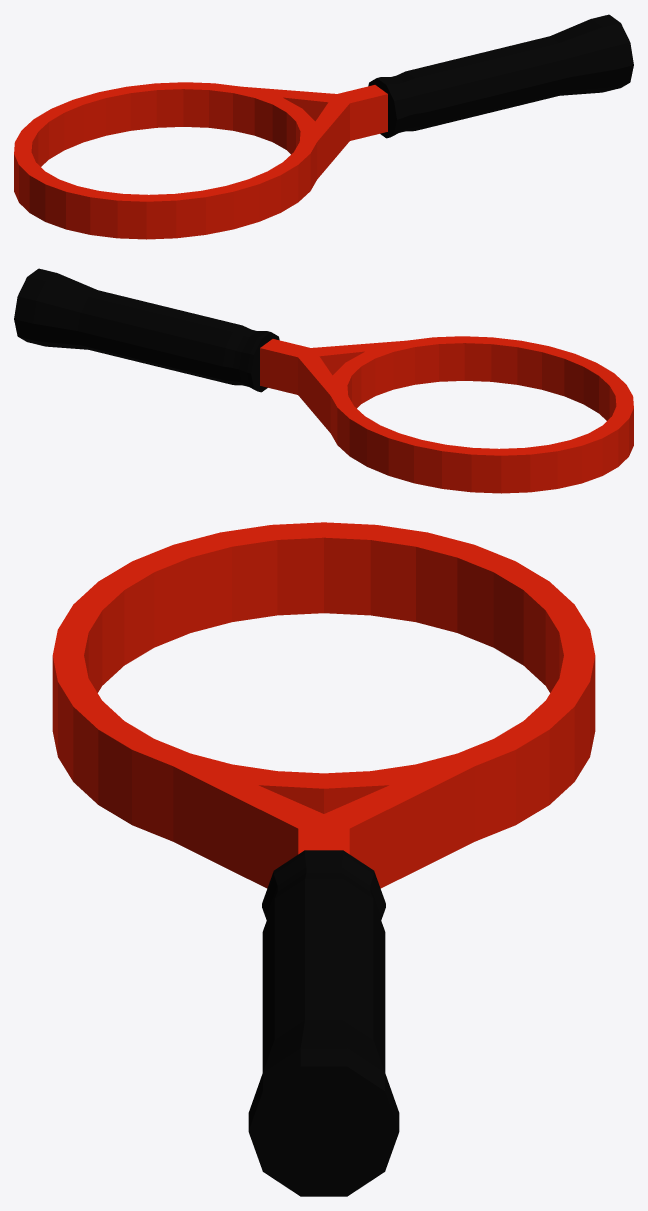
The model's file is racket_5.fbx.
3 views of the same model, one above another, from view 1: azimuth 30°, elevation 25°; view 2: azimuth 150°, elevation 25°; view 3: azimuth 270°, elevation 25° (orthographic). The views are drawn at different scales.
Visible parts, largest first — view 1: Raqueta; view 2: Raqueta; view 3: Raqueta.
Part boxes in pixels (x1=…): Raqueta: x1=14, y1=14, x2=633, y2=239; Raqueta: x1=14, y1=268, x2=633, y2=493; Raqueta: x1=52, y1=522, x2=595, y2=1196.
Bounding box in the file's own units: 195 × 51.49 × 485.
